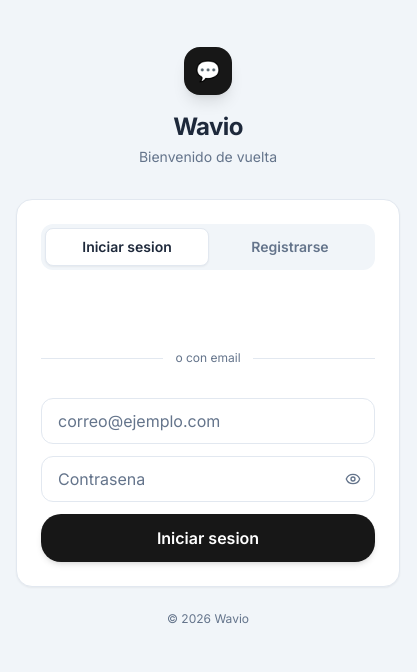
Auth — login con email › muestra error con credenciales invalidas y no navega
In the field with id "login-email": coordinates (208, 421) [41,398,375,444], type "nadie@wavio.test"
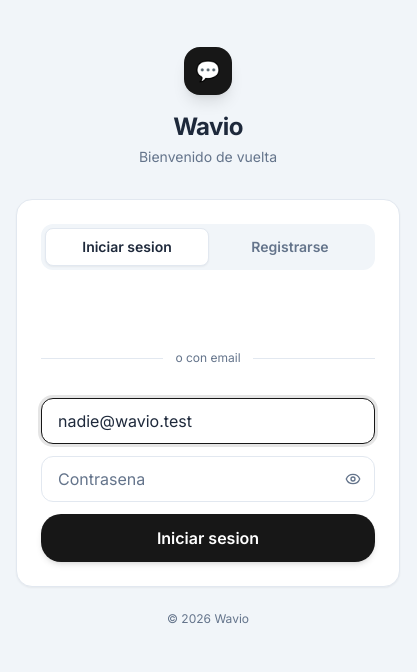
In the password field with id "login-password": coordinates (208, 479) [41,456,375,502], type "incorrecta"
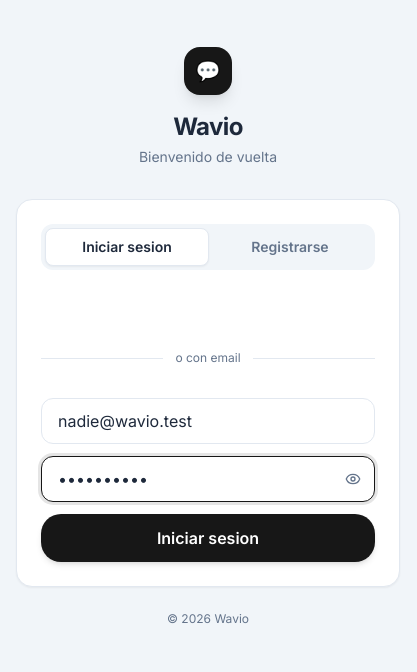
Click the submit button: coordinates (208, 538) [41,514,375,562]
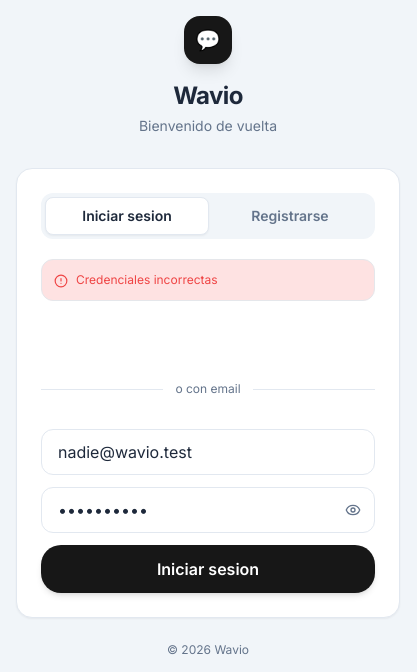
Expected: the text "Credenciales incorrectas" is shown, [41,259,375,301]
